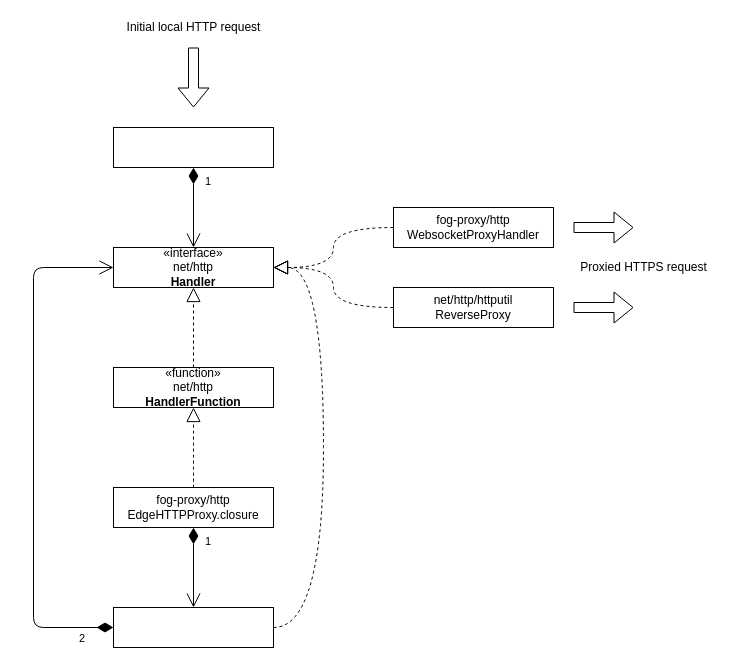
Some shapes in this 731 by 665 pixel diagram are drawn without their labels. Here are the shapes that lost their labels. From the top down, the centre of each, then its label:
At [193,147]: "net/http Server".
At [193,627]: "fog-proxy/http SmartProxy".
